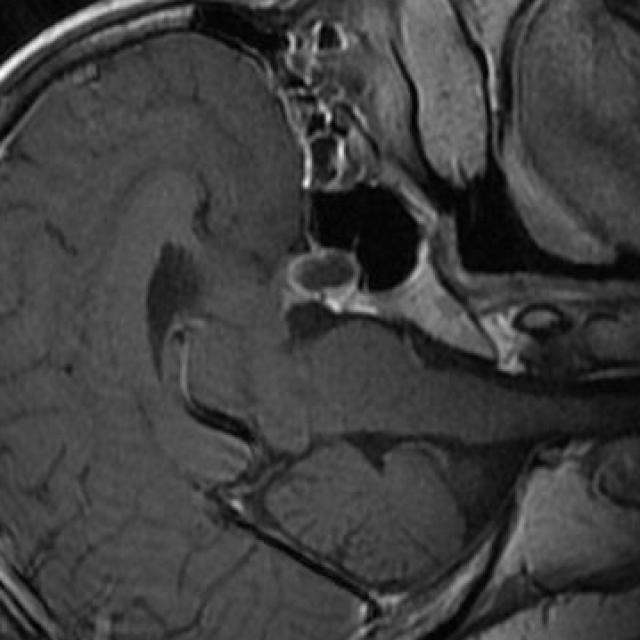pituitary: (289, 251, 360, 307)
